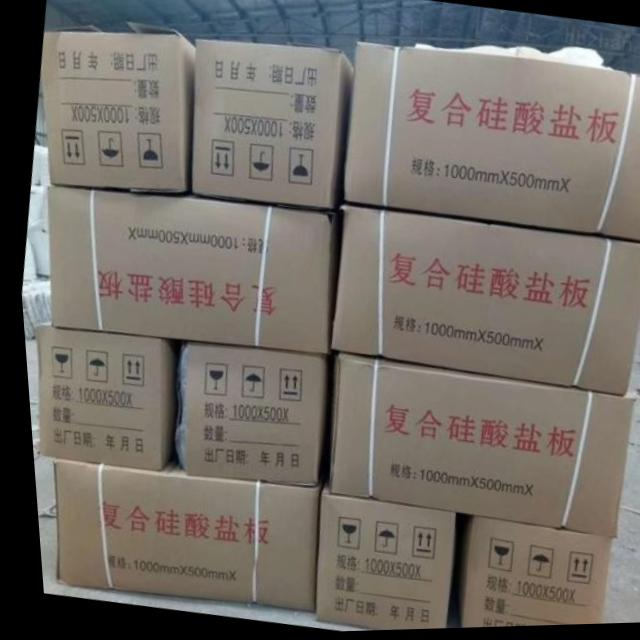box: (341, 43, 640, 244), (327, 209, 640, 400), (323, 355, 627, 543), (46, 186, 330, 357), (45, 461, 311, 613), (188, 41, 354, 213), (39, 22, 194, 196), (30, 321, 177, 473), (306, 479, 445, 632), (178, 346, 318, 489), (452, 520, 604, 630)
